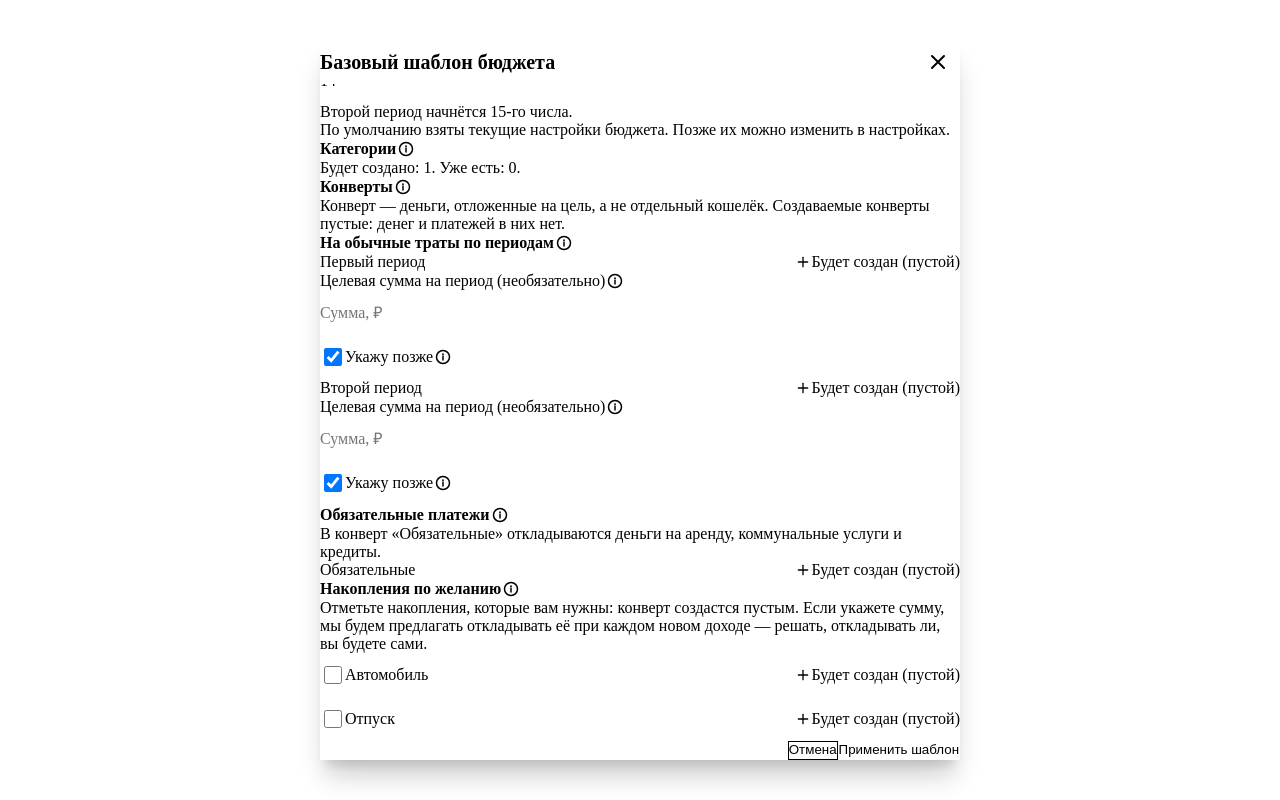
Test: TemplatePreviewSheet review fixes › rejects an invalid savings contribution and focuses the first invalid field
(page scrolled)
Click the checkbox with test id "template-savings-v2-savings-car" at (333, 675), box [324,666,342,684]
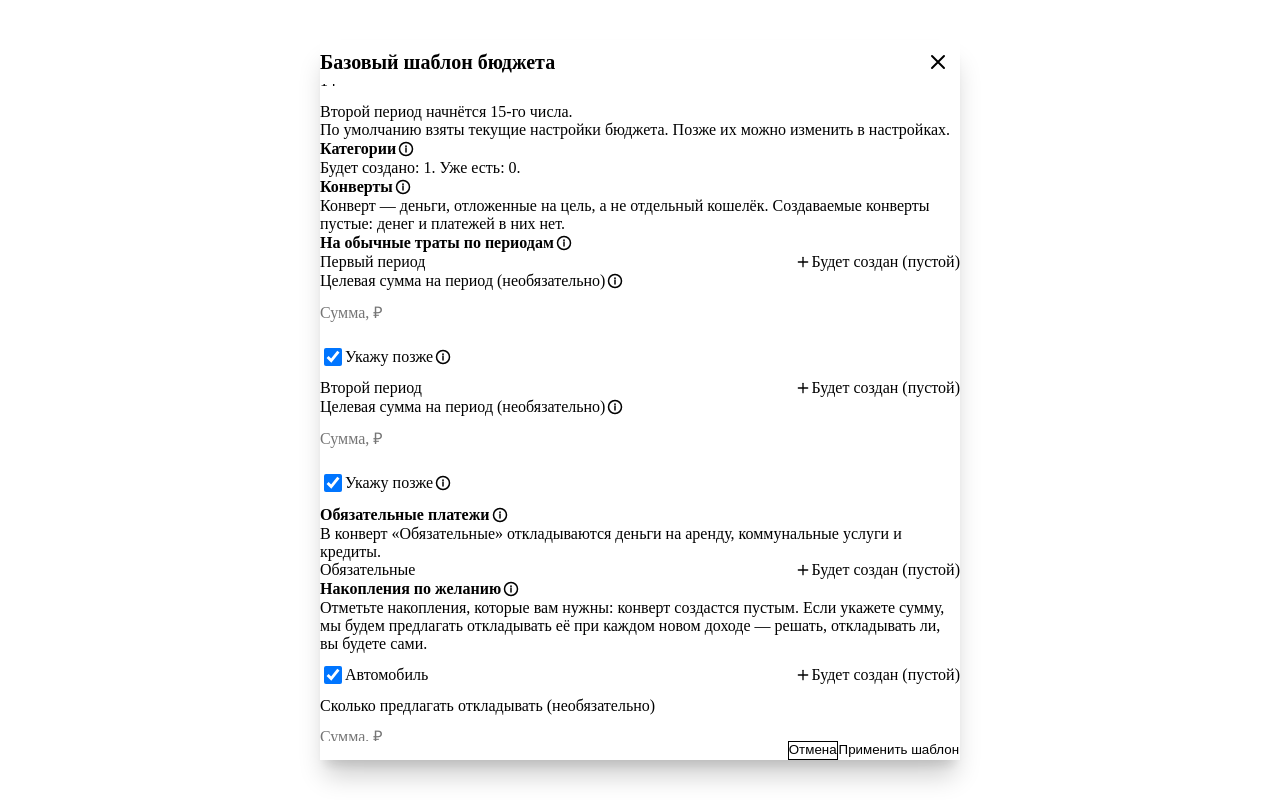
Type "abc" into the field with test id "template-contribution-v2-savings-car" at (640, 737), box [320,715,960,759]
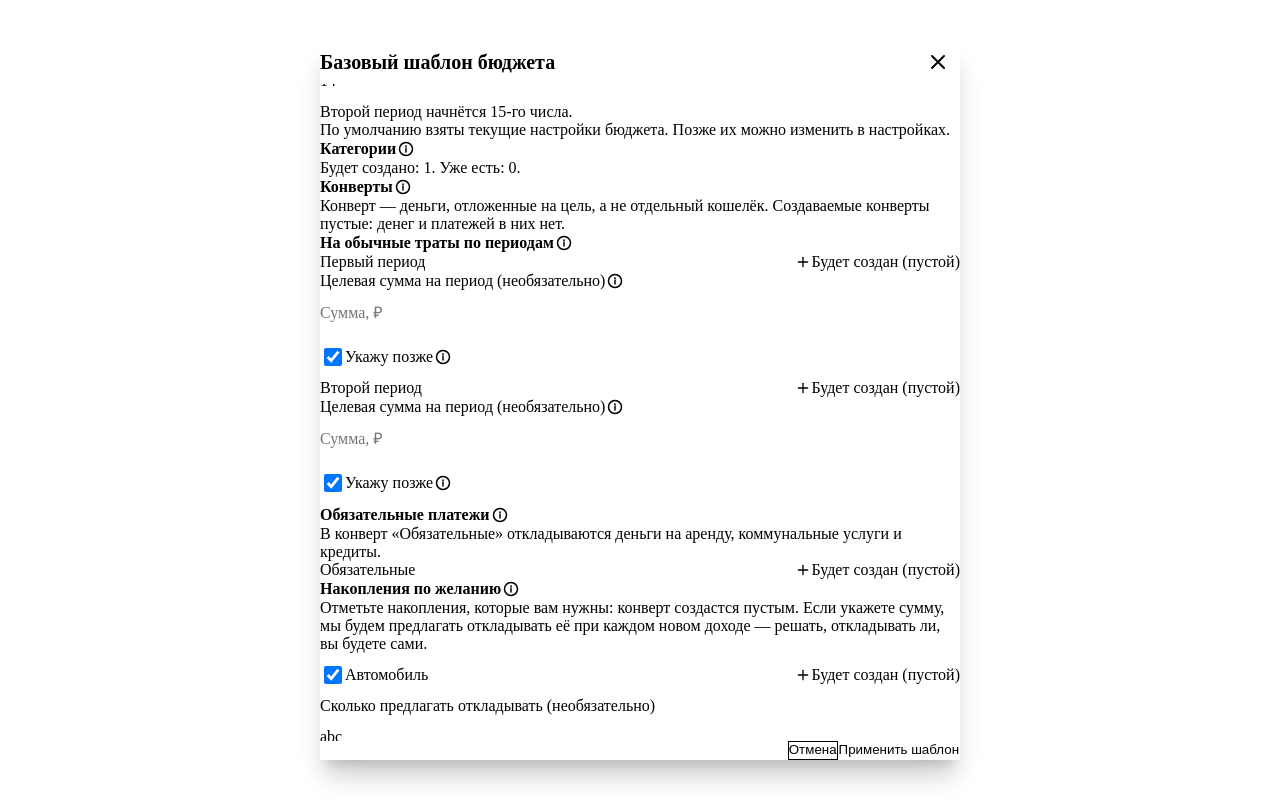
Click the button with test id "template-apply" at (899, 751), box [838,741,960,760]
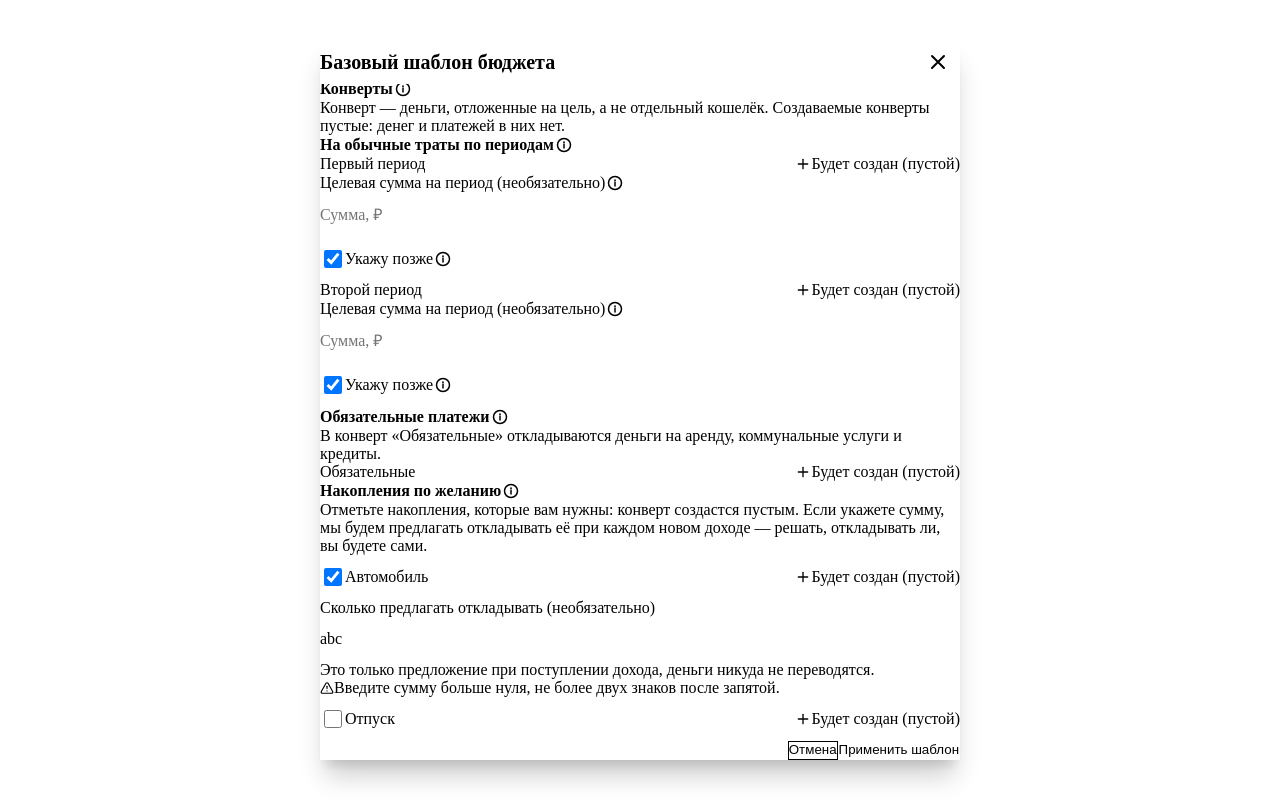
Now the element with test id "template-error-v2-savings-car" is shown, box [320,679,780,696]
